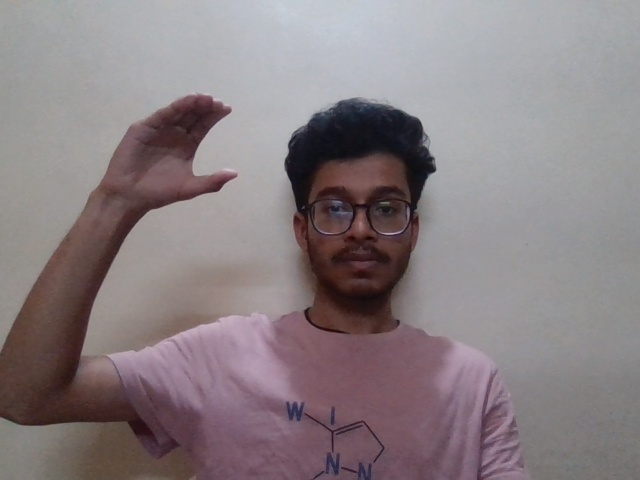C: (104, 85, 245, 223)
